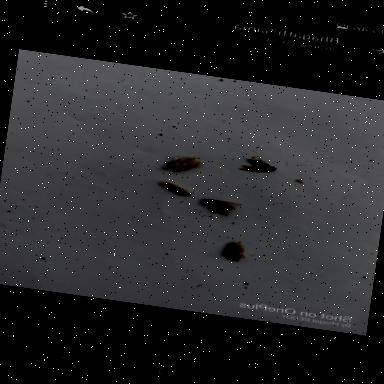pbw: (202, 196, 243, 218), (164, 152, 204, 174), (238, 154, 278, 174), (160, 180, 193, 196), (228, 238, 248, 262)
